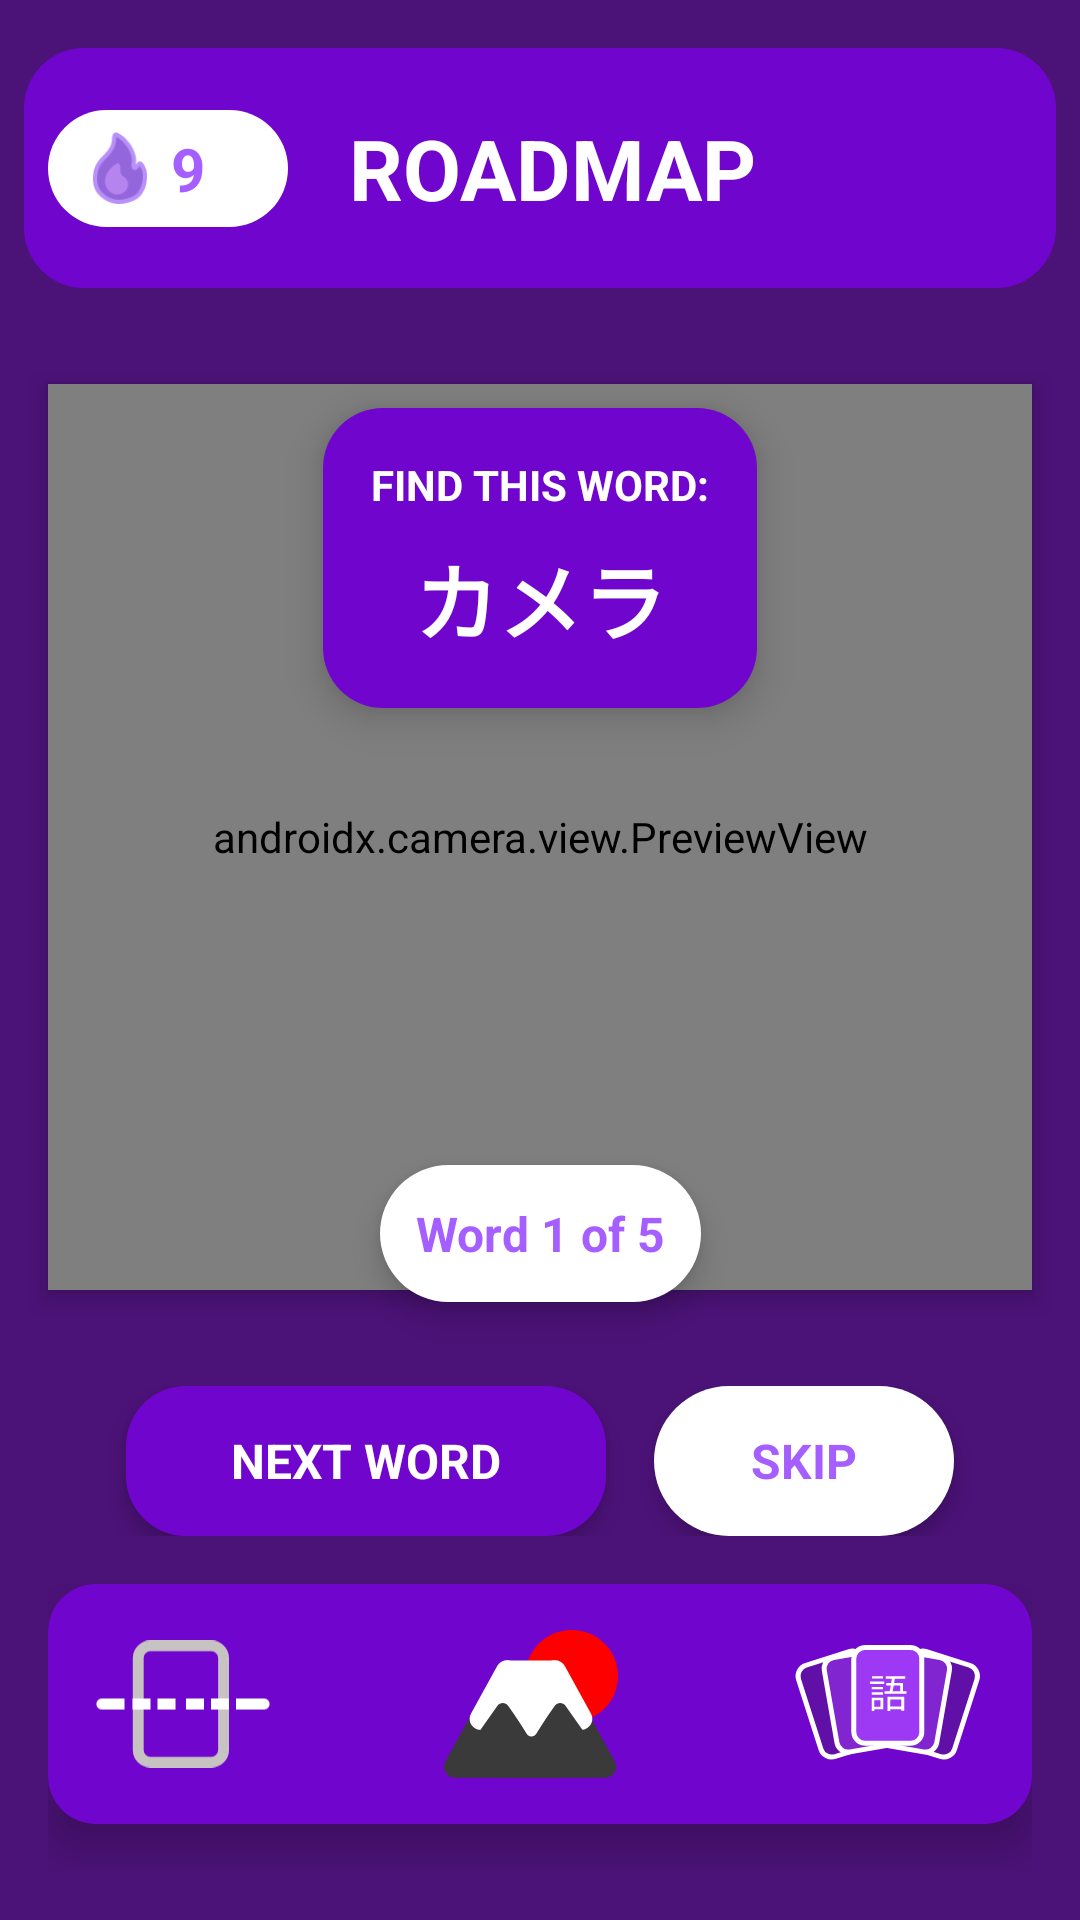

Locate icon controls on the screen. Image size 1080 × 1920, boxes as (x1, y1, x2, y2).
decks: (795, 1645, 980, 1760)
rmap streak: (93, 132, 147, 204)
scan: (96, 1640, 270, 1768)
